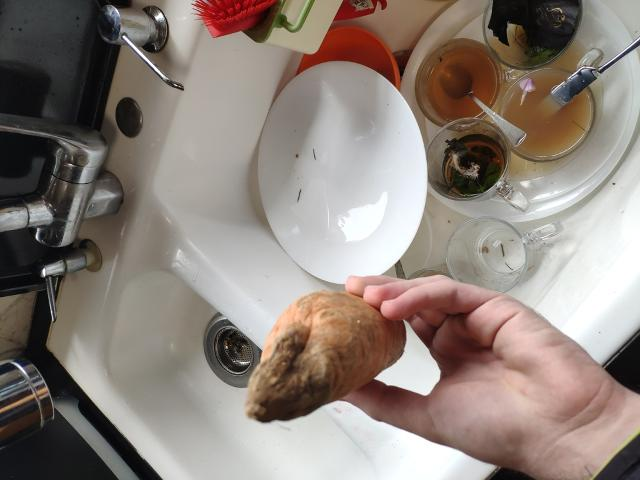sweet_potato: (242, 284, 403, 434)
